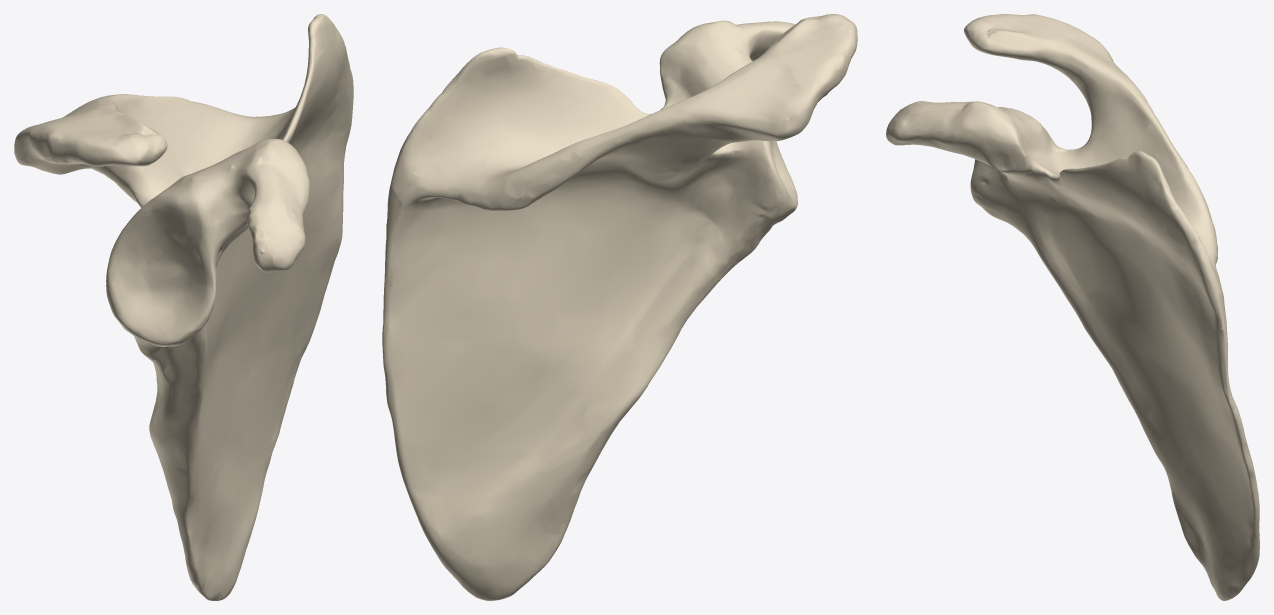
Rendered from scapula-r.glb.
The picture shows the model from 3 angles, left to right: view 1: azimuth 30°, elevation 25°; view 2: azimuth 150°, elevation 25°; view 3: azimuth 270°, elevation 25°; orthographic projection. The views are drawn at different scales.
Visible parts, largest first — view 1: Scapula.r; view 2: Scapula.r; view 3: Scapula.r.
Boxes of the visible parts, x1,y1,x2,y2 form: Scapula.r: [14, 14, 353, 600]; Scapula.r: [382, 14, 857, 600]; Scapula.r: [886, 14, 1259, 600].
Bounding box in the file's own units: 0.113 × 0.1636 × 0.1141.
